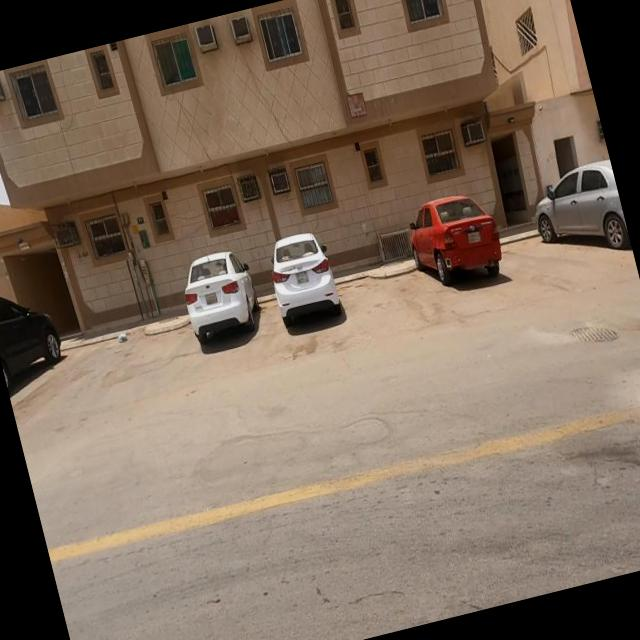debris: (314, 52, 395, 149), (93, 304, 150, 369)
